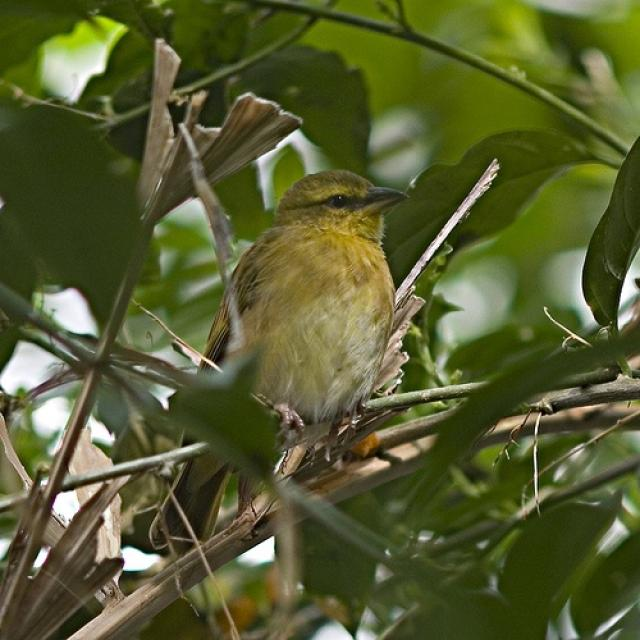bird: (147, 167, 414, 554)
